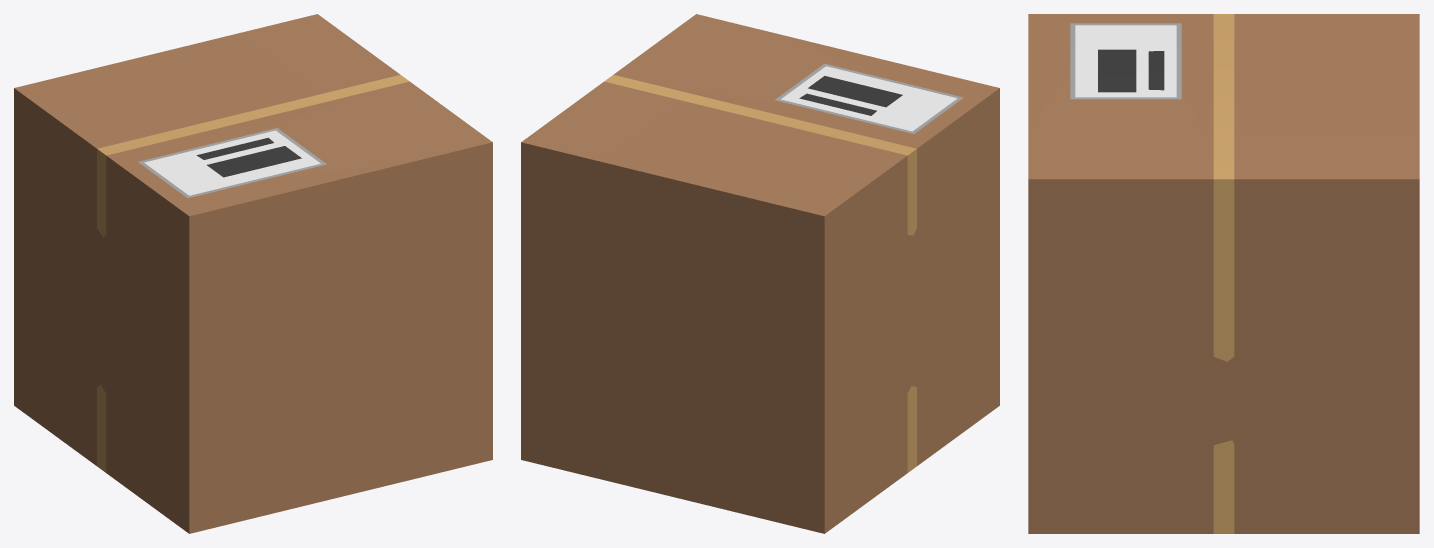
Rendered from Tan Packing Box #5.fbx.
The picture shows the model from 3 angles, left to right: view 1: azimuth 30°, elevation 25°; view 2: azimuth 150°, elevation 25°; view 3: azimuth 270°, elevation 25°; orthographic projection. The views are drawn at different scales.
Parts seen in each view (by area): view 1: Med Tan Packing Box #1; view 2: Med Tan Packing Box #1; view 3: Med Tan Packing Box #1.
Part boxes in pixels (bbox=[...]): Med Tan Packing Box #1: bbox=[14, 14, 492, 533]; Med Tan Packing Box #1: bbox=[521, 14, 999, 533]; Med Tan Packing Box #1: bbox=[1028, 14, 1419, 533].
Size of the model in its own units: 292 by 292 by 292.
Materials: 1 (1 with a texture image).
